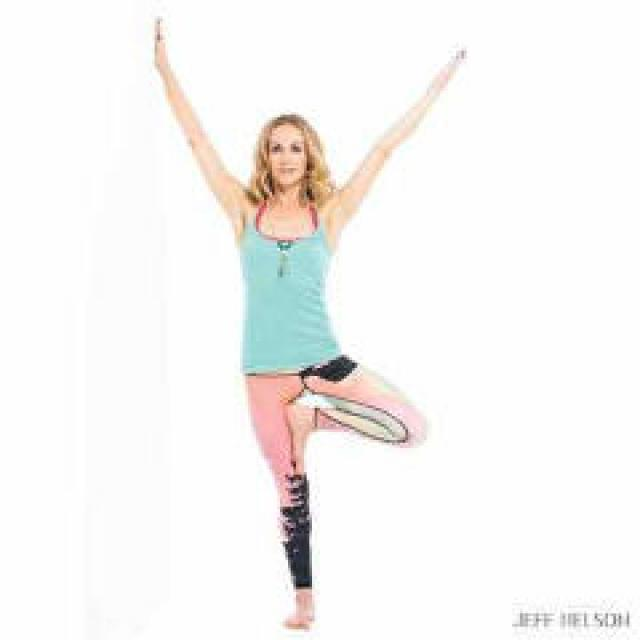yoga-pose tree: (146, 14, 466, 627)
